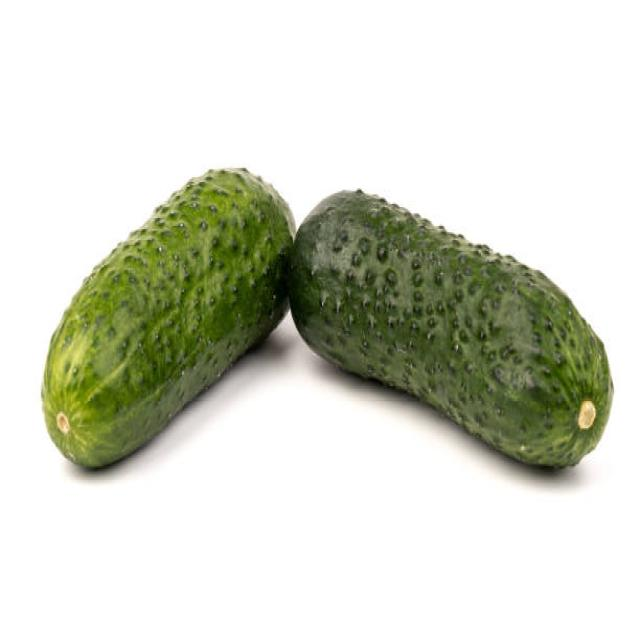cucumber: (287, 190, 614, 470), (40, 165, 297, 467)
